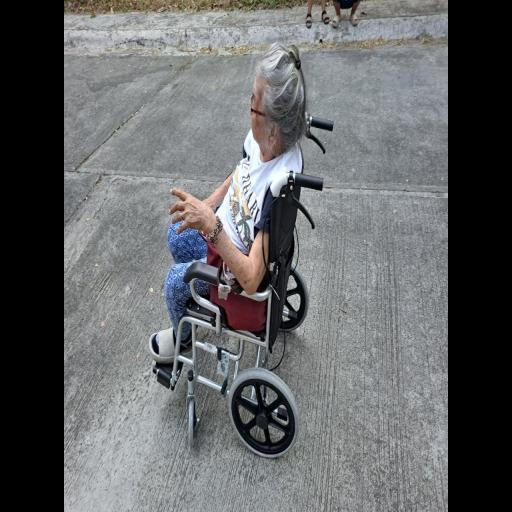cadeira_de_rodas: (153, 30, 335, 464)
